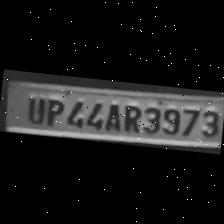3: (197, 106, 222, 138), (138, 102, 162, 134)
4: (62, 96, 86, 130), (84, 98, 105, 130)
7: (178, 105, 199, 137)
9: (158, 104, 182, 136)
A: (102, 100, 123, 132)
P: (42, 96, 64, 128)
R: (119, 101, 142, 133)
U: (21, 93, 47, 125)
